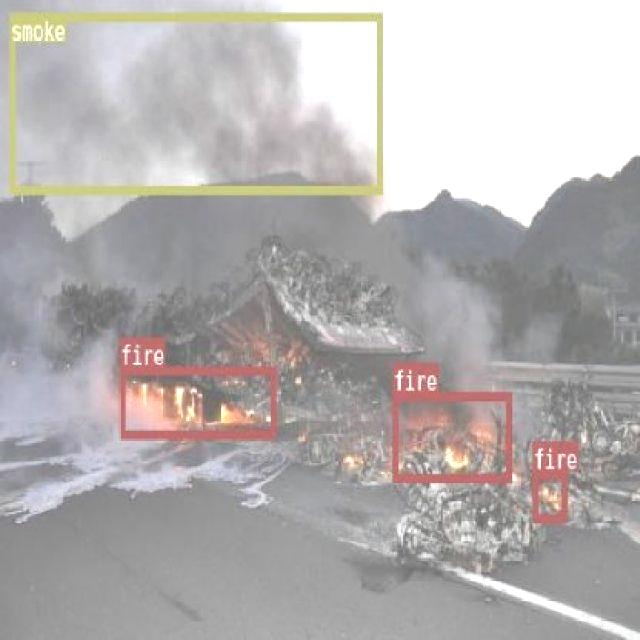fire: (119, 365, 275, 438), (392, 391, 510, 482), (531, 468, 567, 521)
smoke: (9, 12, 382, 192)
